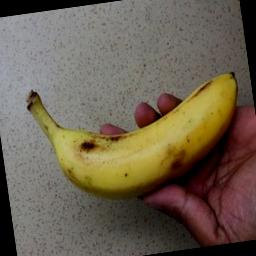Banana Ripe: (11, 45, 256, 225)
